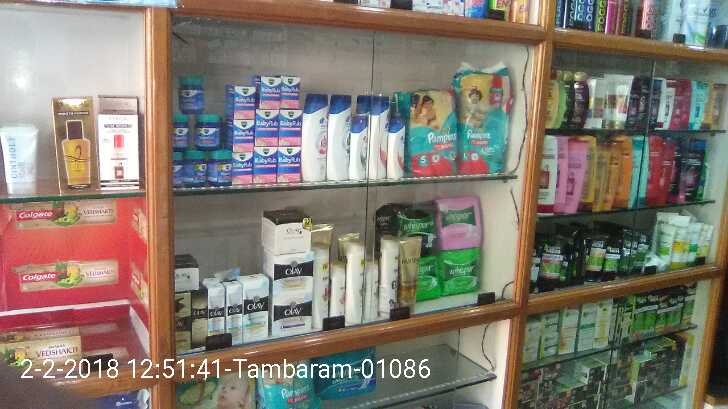vicks: (233, 72, 300, 181), (171, 75, 231, 190)
